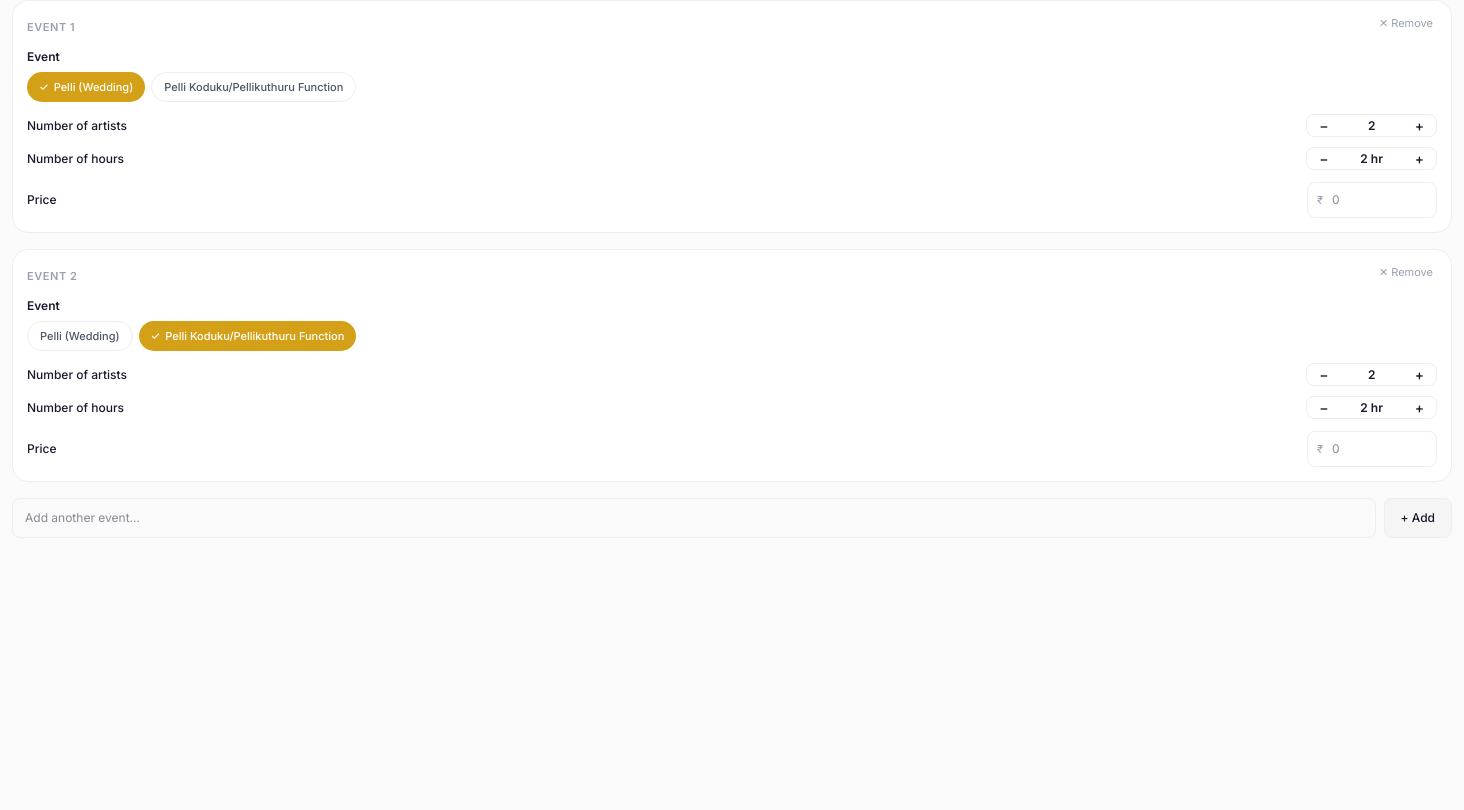
Scenario: BanjantriluPricingEditor › adds another event card via the custom input, shown as a selected chip
Type "Baraat" into the field with placeholder "Add another event…" at (694, 518), box [12,498,1376,538]
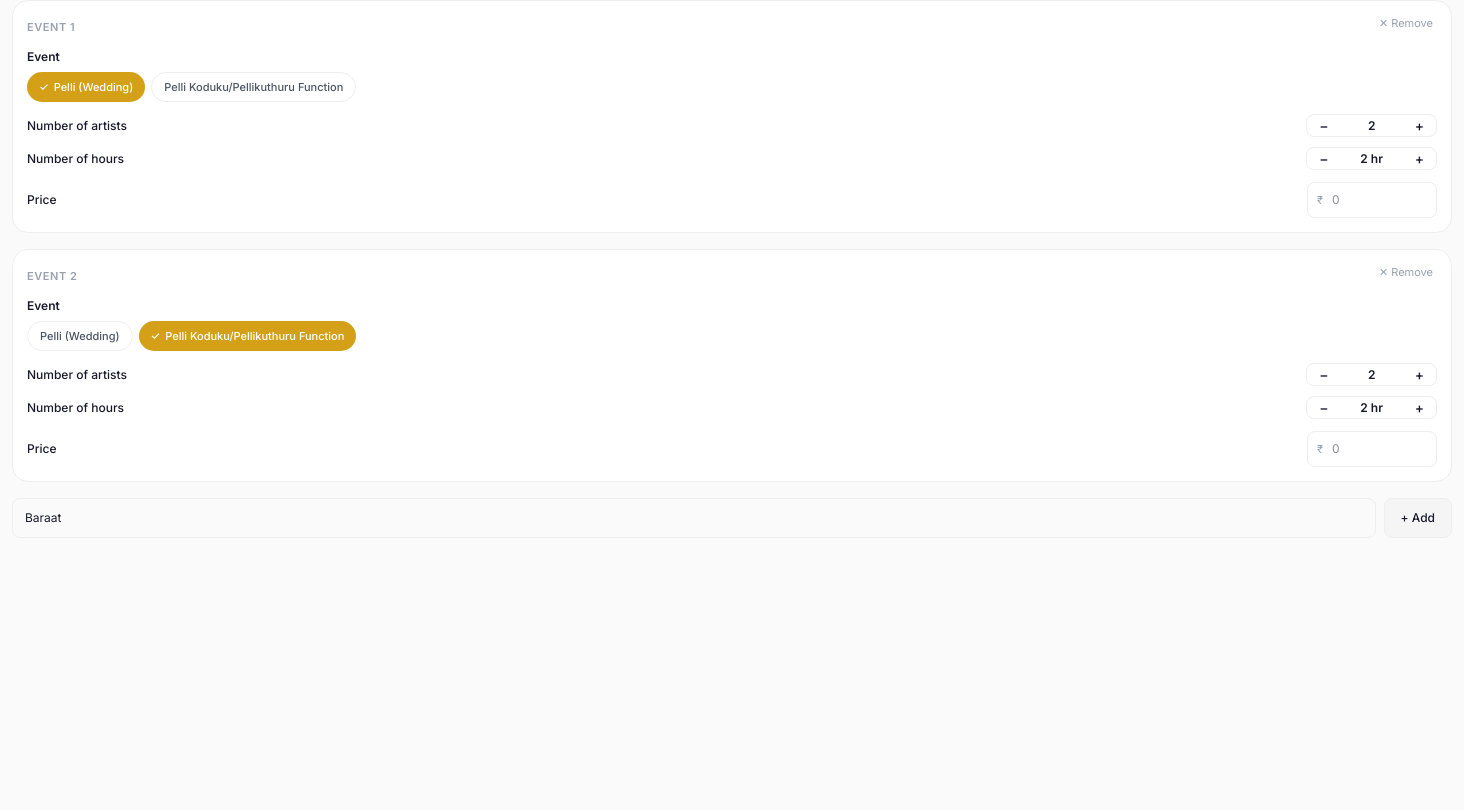
Click the button "+ Add" at (1418, 518), box [1384,498,1452,538]
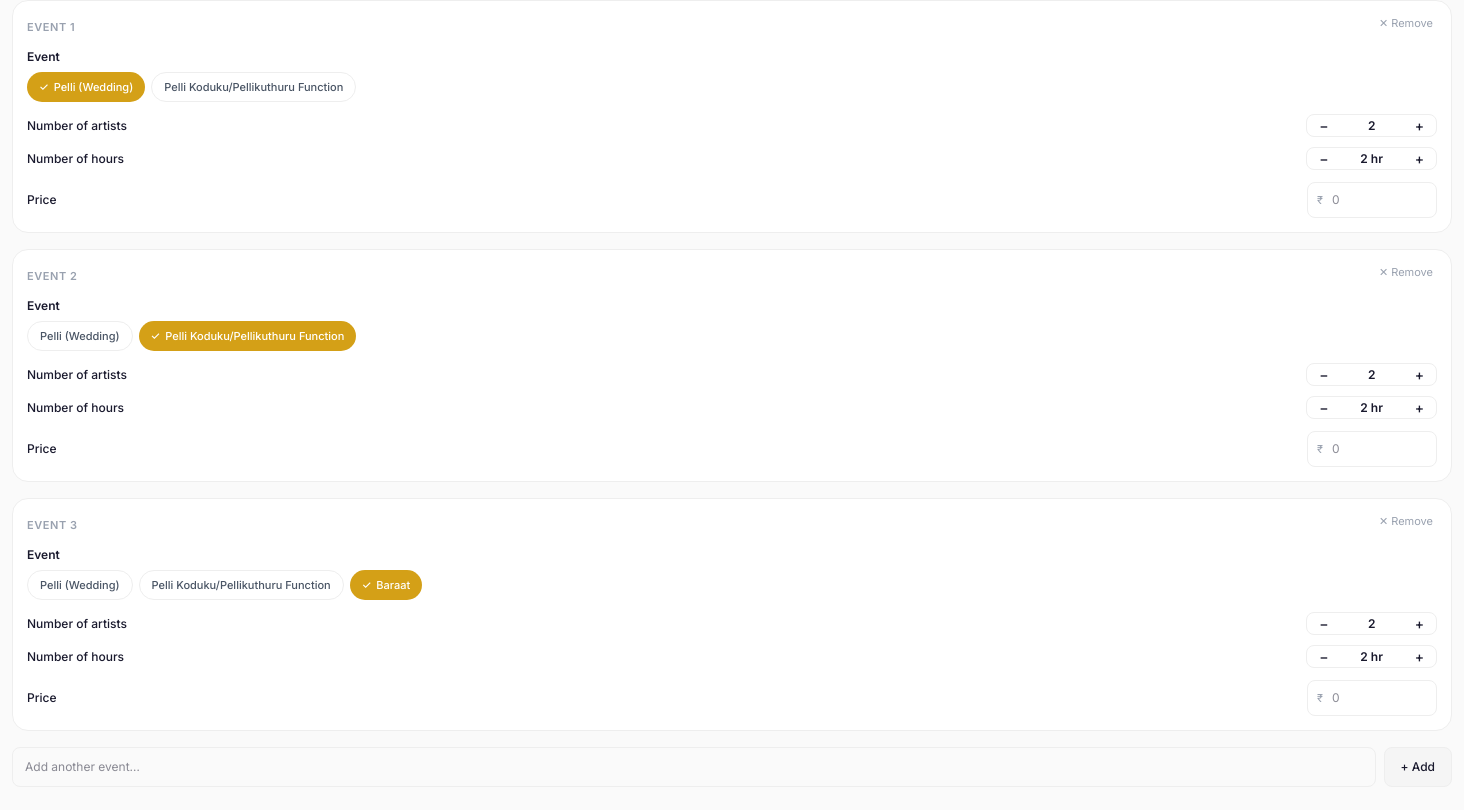
Expected: the text "Event 3" is shown, [27,517,78,534]
Expected: the button "✓ Baraat" is shown, [350,570,422,600]
